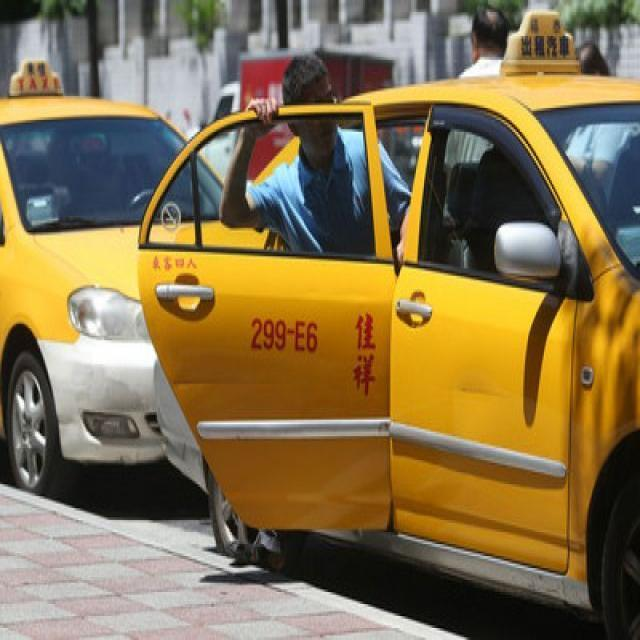Door: (0, 62, 184, 495)
Taxi: (139, 11, 640, 636)
